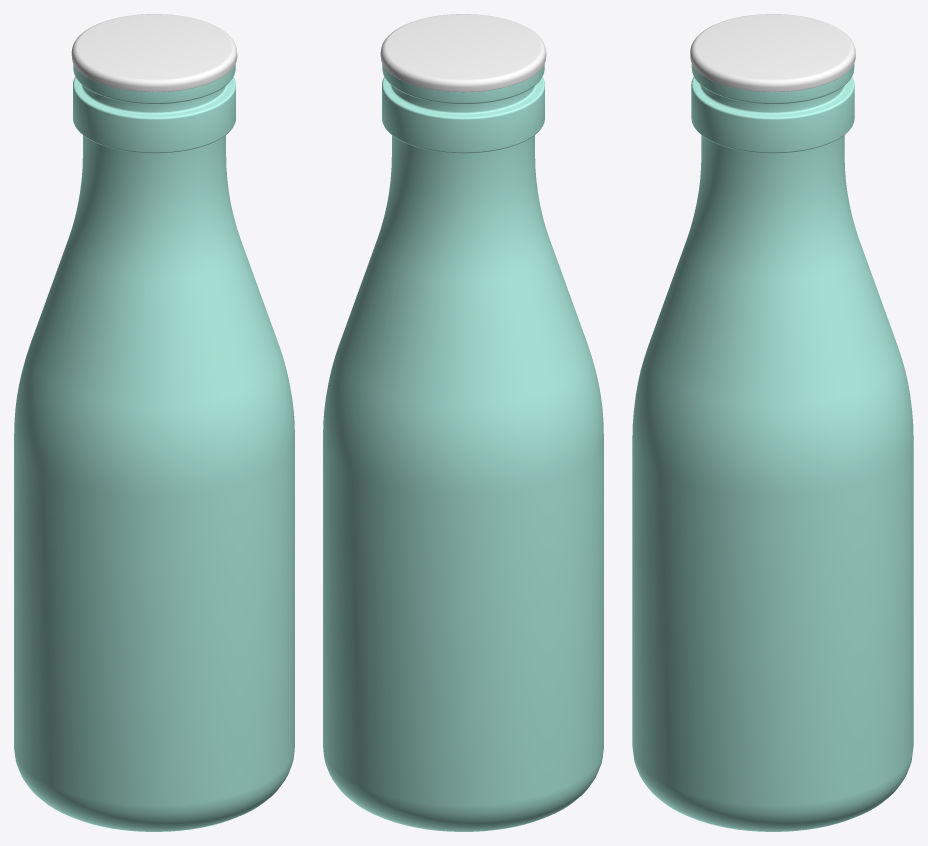
File: milk bottle.fbx
The picture shows the model from 3 angles, left to right: view 1: azimuth 30°, elevation 25°; view 2: azimuth 150°, elevation 25°; view 3: azimuth 270°, elevation 25°; orthographic projection.
Parts seen in each view (by area): view 1: Bottle, Bottle001; view 2: Bottle, Bottle001; view 3: Bottle, Bottle001.
Part boxes in pixels (x1,y1,x2,y2): Bottle: (14, 64, 294, 831); Bottle001: (71, 14, 237, 92); Bottle: (323, 64, 603, 831); Bottle001: (380, 14, 546, 92); Bottle: (632, 64, 913, 831); Bottle001: (690, 14, 855, 92).
Size of the model in its own units: 3.57 by 10.38 by 3.57.
